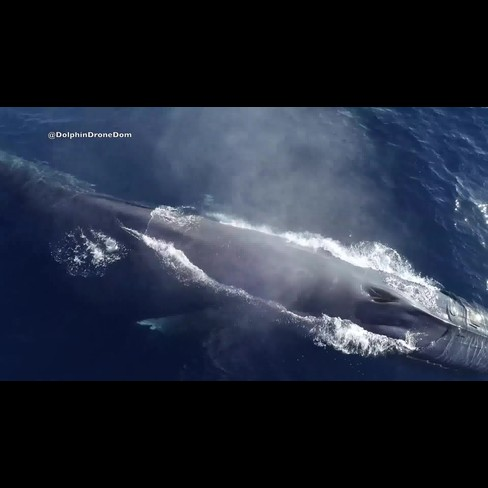bluewhale: (1, 148, 488, 381)
